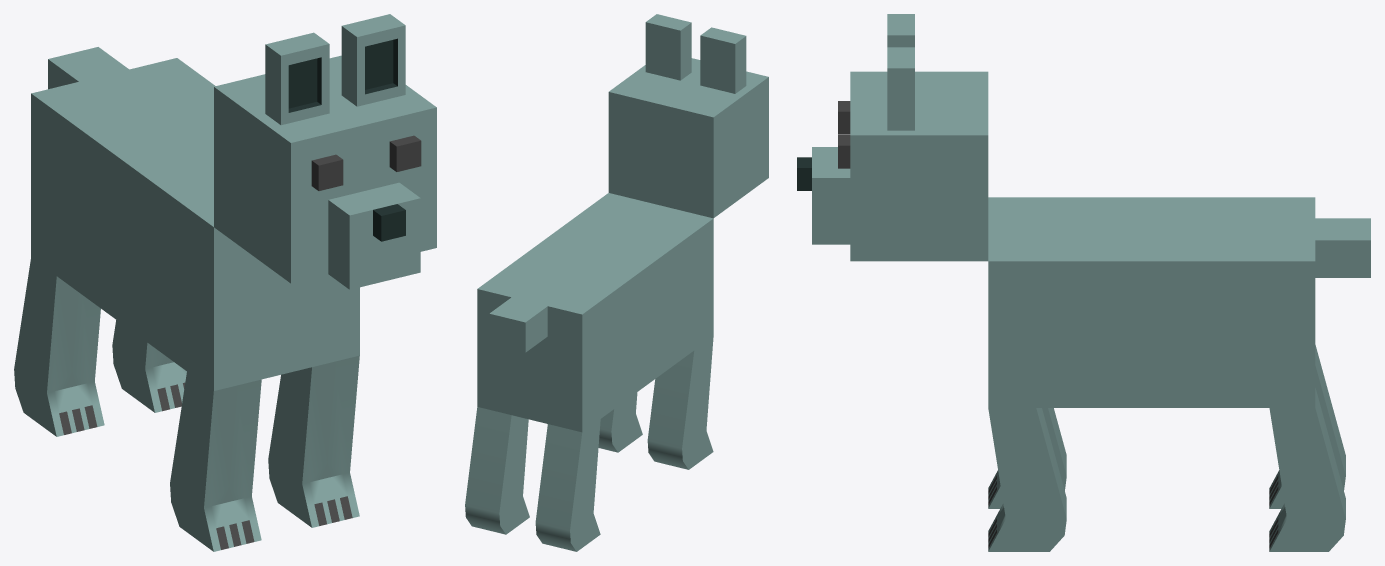
Rendered from 087 Dog.fbx.
3 views of the same model, side by side, from view 1: azimuth 30°, elevation 25°; view 2: azimuth 150°, elevation 25°; view 3: azimuth 270°, elevation 25° (orthographic). The views are drawn at different scales.
Parts seen in each view (by area): view 1: Lowpoly_Christmas_Pack_087:pCube2; view 2: Lowpoly_Christmas_Pack_087:pCube2; view 3: Lowpoly_Christmas_Pack_087:pCube2.
Boxes of the visible parts, bbox=[...] form: Lowpoly_Christmas_Pack_087:pCube2: bbox=[14, 14, 436, 551]; Lowpoly_Christmas_Pack_087:pCube2: bbox=[465, 14, 768, 551]; Lowpoly_Christmas_Pack_087:pCube2: bbox=[797, 14, 1370, 551].
Size of the model in its own units: 0.5903 by 2.07 by 2.24.
